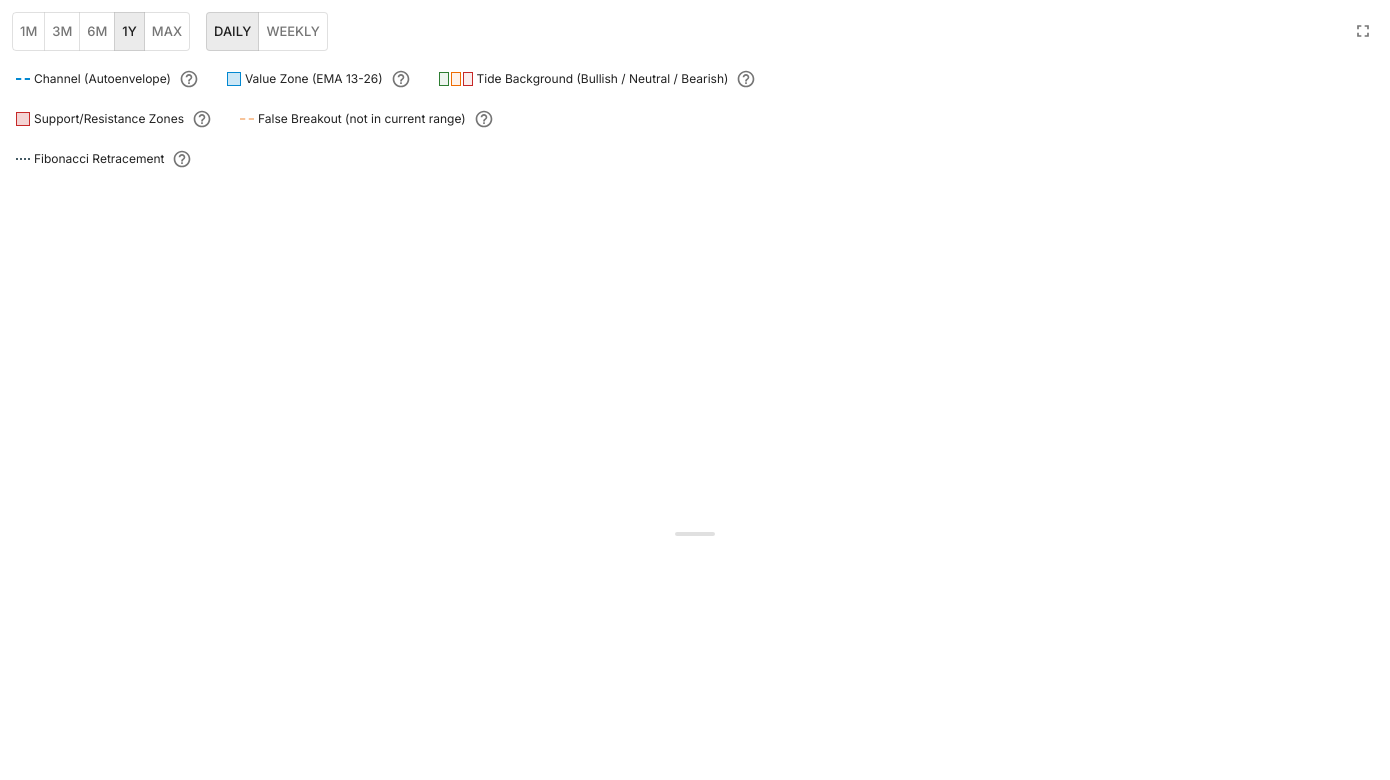
Scenario: PriceChart › support/resistance zones (frontend-support-resistance-overlay) › still shows the False Breakout legend (noting it is not in the current range) and caveats the MetricHelp text when the most recent breakout's reentry_date falls
Expected: the text "False Breakout (not in current range)" is shown, [258,109,466,129]
Click the button named "False Breakout help": [484, 119] box [474,109,494,129]
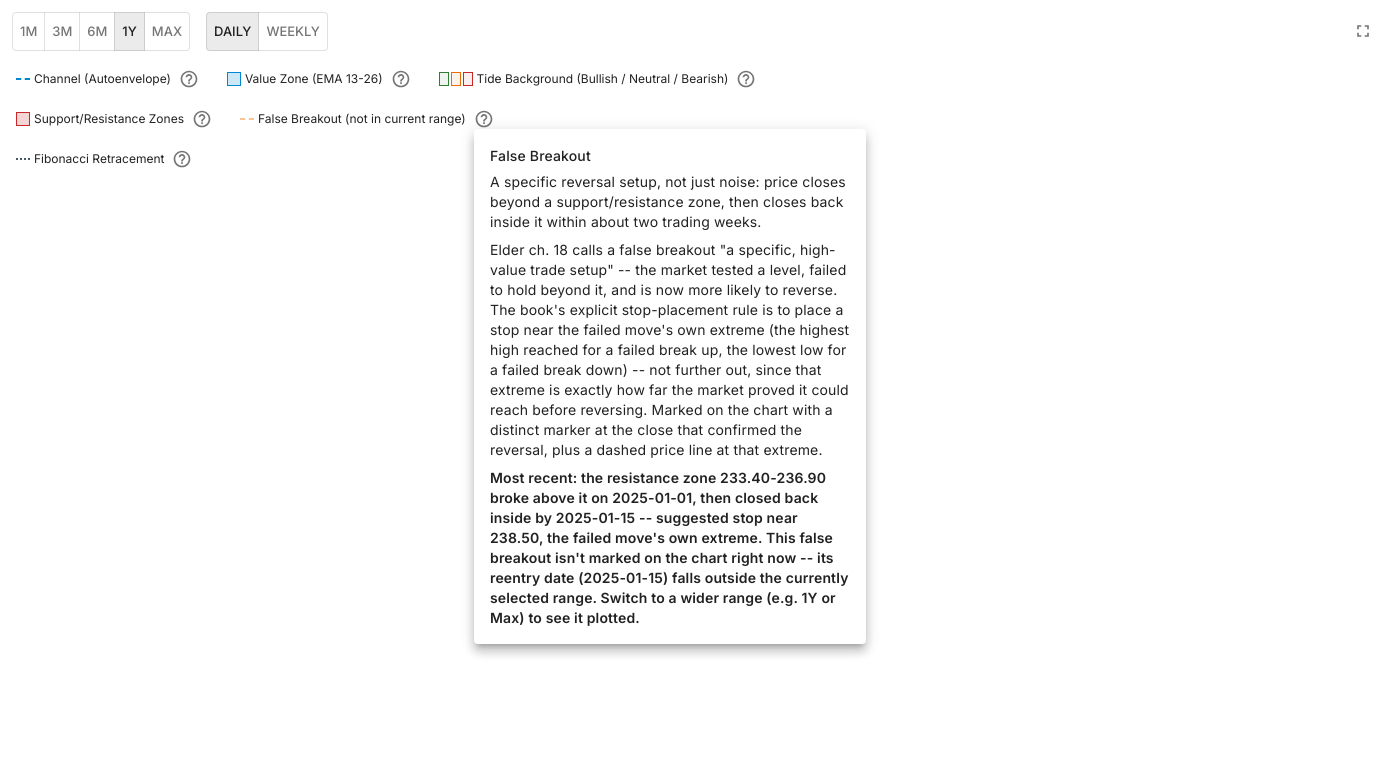
Now the text "2025-01-15" is shown, box [490,469,848,626]
